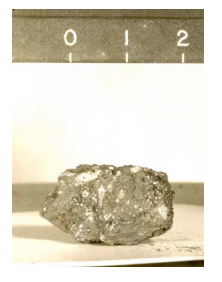Breccia: (22, 127, 188, 260)
